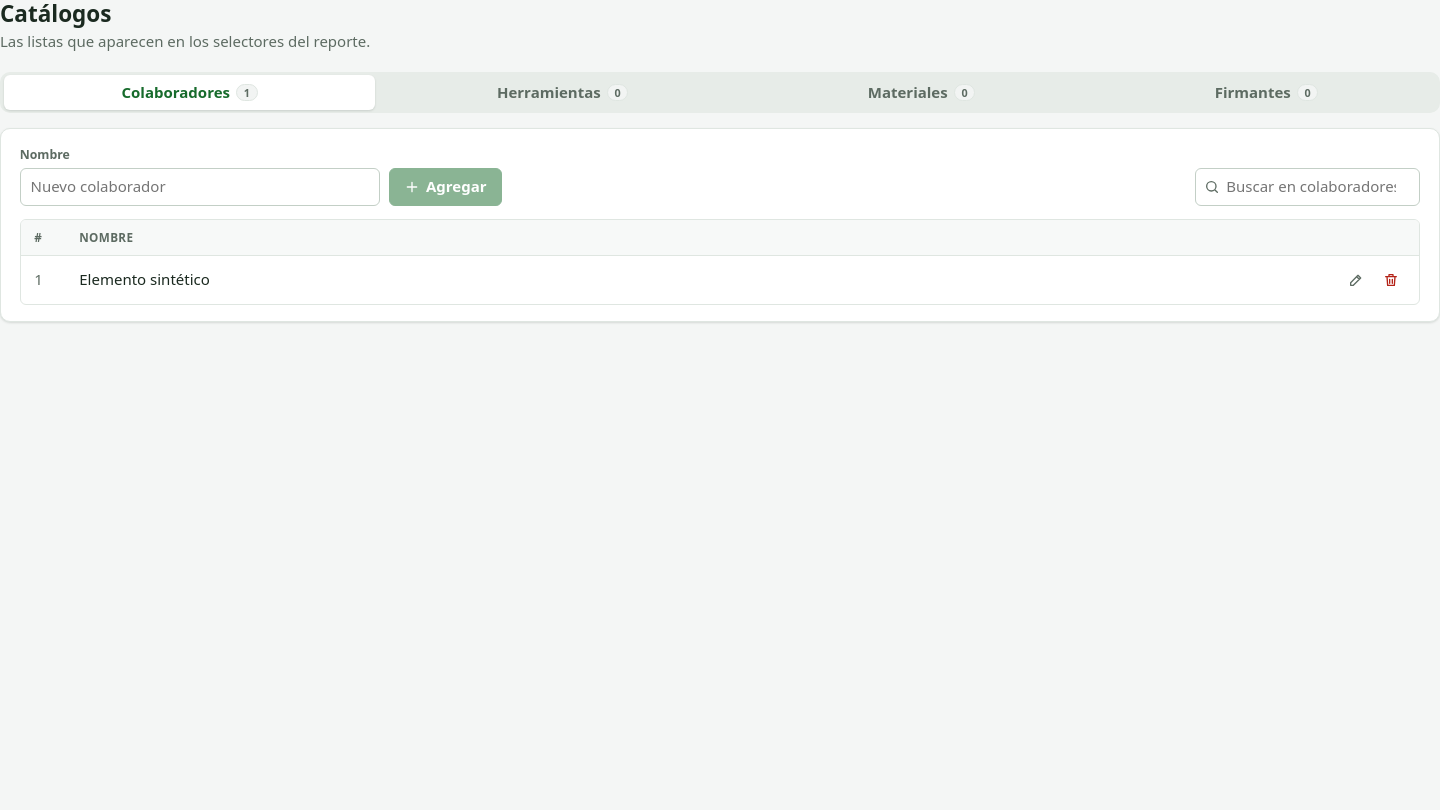
Scenario: pide confirmación antes de desactivar
Click the button named "Desactivar Elemento sintético" at (1391, 280), box [1376,265,1406,295]
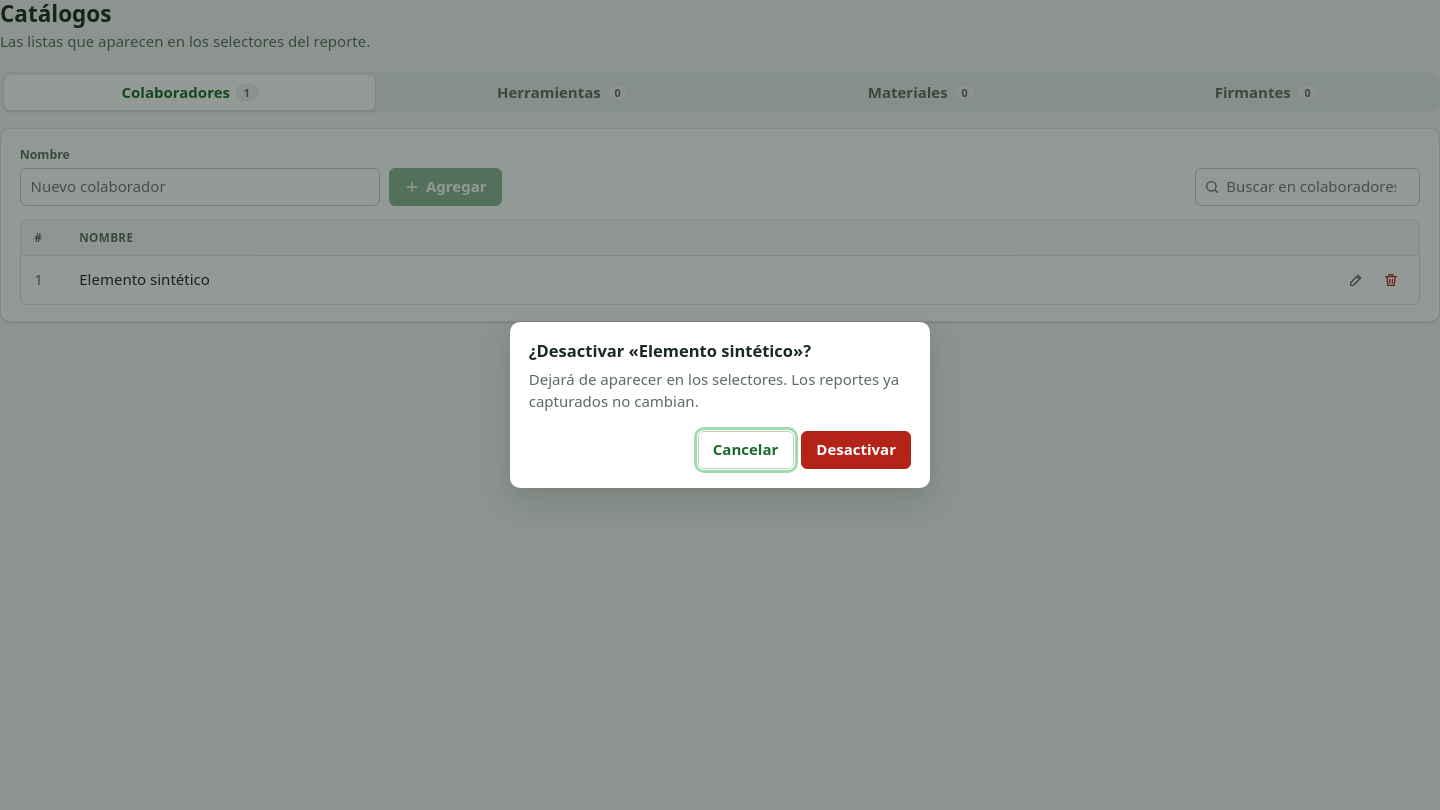
Click the button "Desactivar" at (856, 450), box [801,431,911,469]
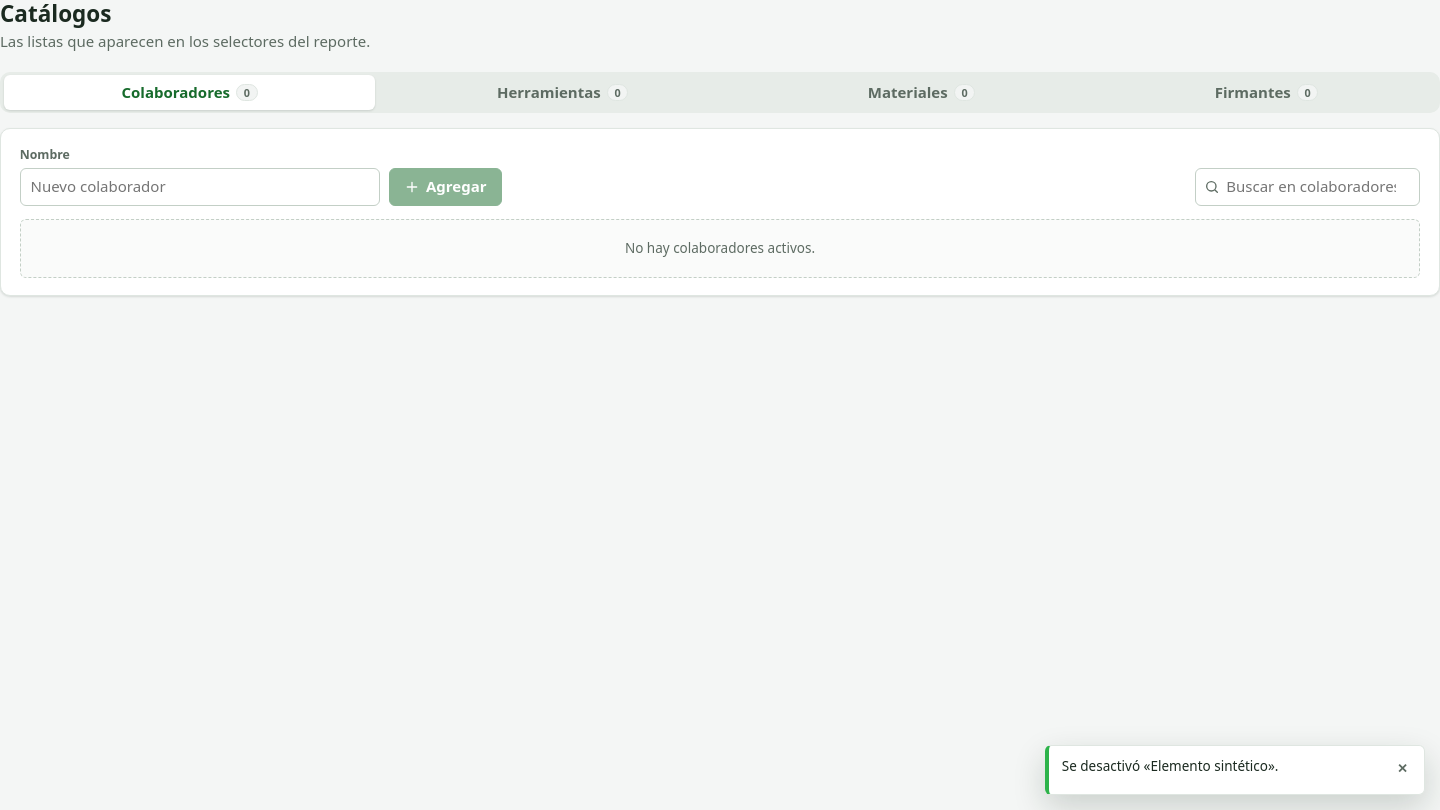
Expected: the message shows "Se desactivó", [1062,757,1279,775]
